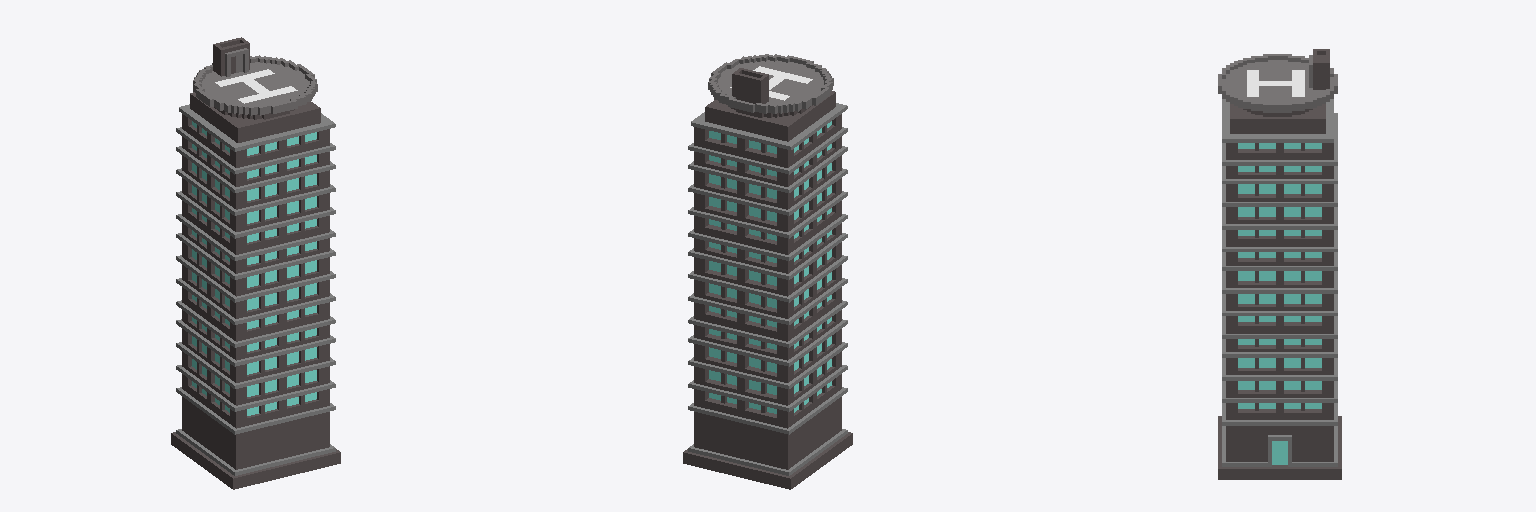
3 views of the same model, side by side, from view 1: azimuth 30°, elevation 25°; view 2: azimuth 150°, elevation 25°; view 3: azimuth 270°, elevation 25° (orthographic).
Bounding box in the file's own units: 30 × 105 × 30.
Materials: 1 (1 with a texture image).